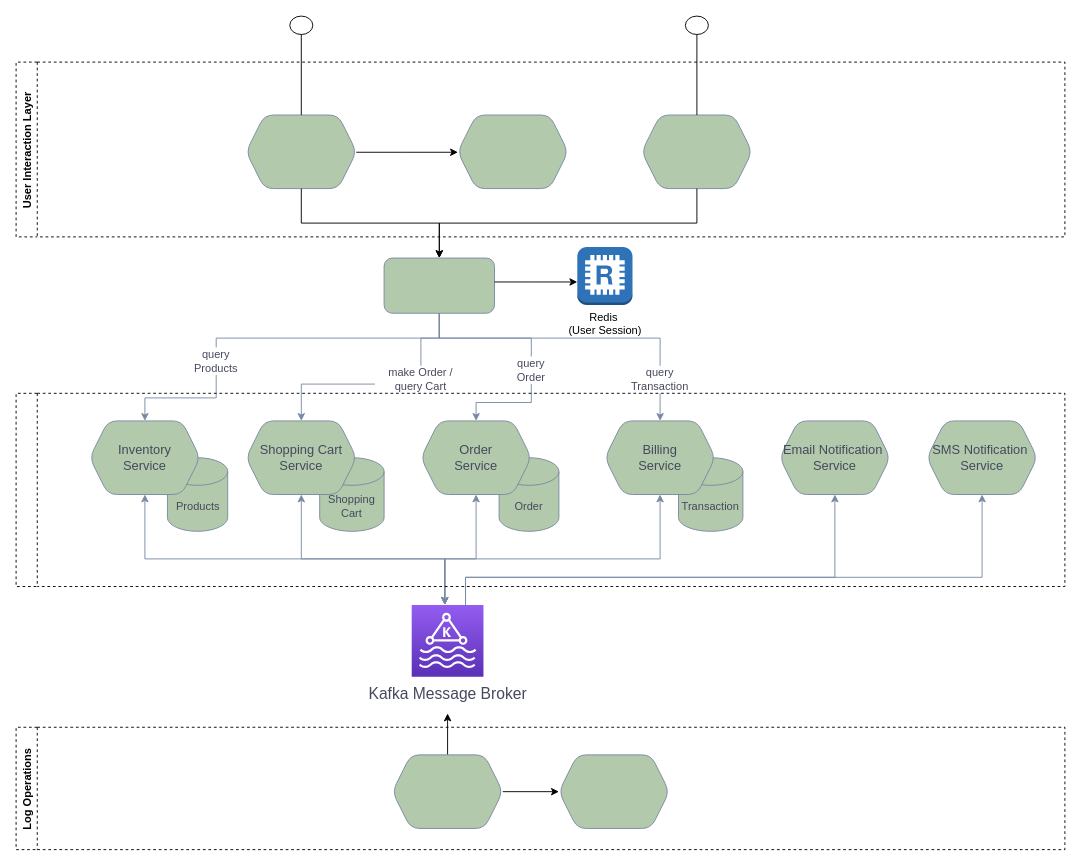
Some shapes in this 1081 by 866 pixel diagram are drawn without their labels. The shapes that lost their labels are listed below. From the top down, each one's centre as x and y in pixels, then its label:
point 300,151: UI Controller
point 512,151: Authentication / Authorization
point 696,151: Integration
point 438,285: API Gateway
point 540,489: Backend Layer
point 447,791: ELK
point 613,791: Kibana
